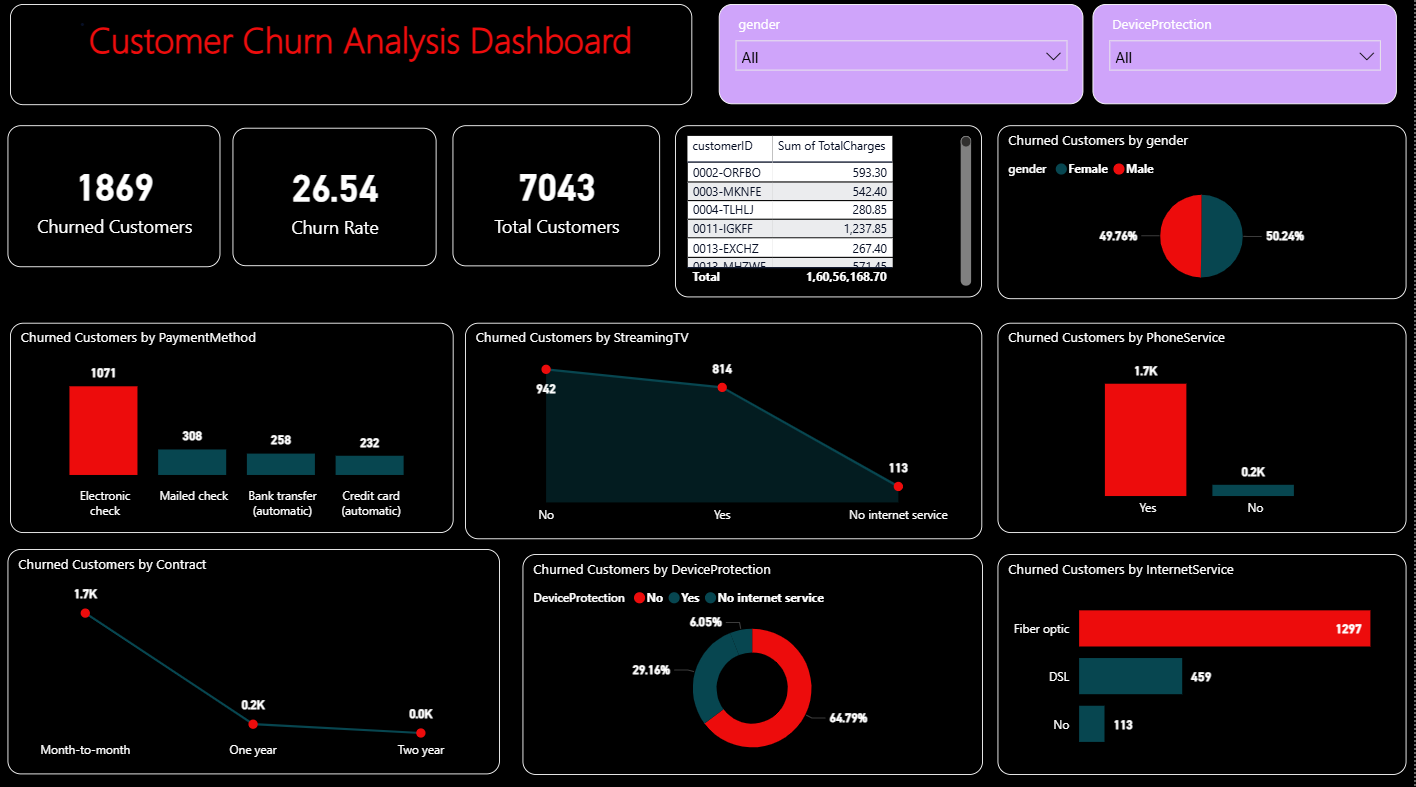

The dashboard page shown, as its layout file describes it:
{"tool":"powerbi","page":{"name":"Page 1","canvas":[1280,720],"ordinal":0},"visuals":[{"type":"card","fields":{"Values":["churn data.Churn Rate"]},"box":[214.1,120.8,183.9,124.9],"z":0},{"type":"card","fields":{"Values":["churn data.Total Customers"]},"box":[412.5,118.3,187.1,127.4],"z":1000},{"type":"card","fields":{"Values":["churn data.Churned Customers"]},"box":[11,118,192.1,127.6],"z":2000},{"type":"textbox","box":[13.8,9.2,614.9,90.8],"z":3000},{"type":"pieChart","fields":{"Y":["churn data.Churned Customers"],"Category":["churn data.gender"]},"box":[903.5,118.6,368.6,157],"z":4000},{"type":"clusteredColumnChart","fields":{"Category":["churn data.PaymentMethod"],"Y":["churn data.Churned Customers"]},"box":[13.8,296.6,400,189.7],"z":5000},{"type":"lineChart","fields":{"Category":["churn data.Contract"],"Y":["churn data.Churned Customers"]},"box":[11.5,500,443.7,203.4],"z":6000},{"type":"clusteredColumnChart","fields":{"Category":["churn data.PhoneService"],"Y":["churn data.Churned Customers"]},"box":[903.4,296.6,369,189.7],"z":7000},{"type":"donutChart","fields":{"Category":["churn data.DeviceProtection"],"Y":["churn data.Churned Customers"]},"box":[475.9,504.6,414.9,198.9],"z":8000},{"type":"areaChart","fields":{"Category":["churn data.StreamingTV"],"Y":["churn data.Churned Customers"]},"box":[424.1,296.6,466.7,195.4],"z":9000},{"type":"clusteredBarChart","fields":{"Category":["churn data.InternetService"],"Y":["churn data.Churned Customers"]},"box":[903.4,504.6,369,198.9],"z":10000},{"type":"slicer","fields":{"Values":["churn data.gender"]},"box":[652.3,9.3,329.1,90.7],"z":11000},{"type":"slicer","fields":{"Values":["churn data.DeviceProtection"]},"box":[989.5,9.3,274.4,90.7],"z":12000},{"type":"tableEx","fields":{"Values":["churn data.customerID","Sum(churn data.TotalCharges)"]},"box":[613.4,118,277.2,155.1],"z":13000}]}

Visuals, with their boxes in screenshot pixels (x1, y1, x2, y2), scaled from the page's 1280x720 canvas onto the 1416x787 screenshot:
card - churn data.Churn Rate: [237,132,440,269]
card - churn data.Total Customers: [456,129,663,269]
card - churn data.Churned Customers: [12,129,225,268]
textbox: [15,10,695,109]
pieChart - churn data.Churned Customers x churn data.gender: [999,130,1407,301]
clusteredColumnChart - churn data.PaymentMethod x churn data.Churned Customers: [15,324,458,532]
lineChart - churn data.Contract x churn data.Churned Customers: [13,547,504,769]
clusteredColumnChart - churn data.PhoneService x churn data.Churned Customers: [999,324,1408,532]
donutChart - churn data.DeviceProtection x churn data.Churned Customers: [526,552,985,769]
areaChart - churn data.StreamingTV x churn data.Churned Customers: [469,324,985,538]
clusteredBarChart - churn data.InternetService x churn data.Churned Customers: [999,552,1408,769]
slicer - churn data.gender: [722,10,1086,109]
slicer - churn data.DeviceProtection: [1095,10,1398,109]
tableEx - churn data.customerID x Sum(churn data.TotalCharges): [679,129,985,299]
